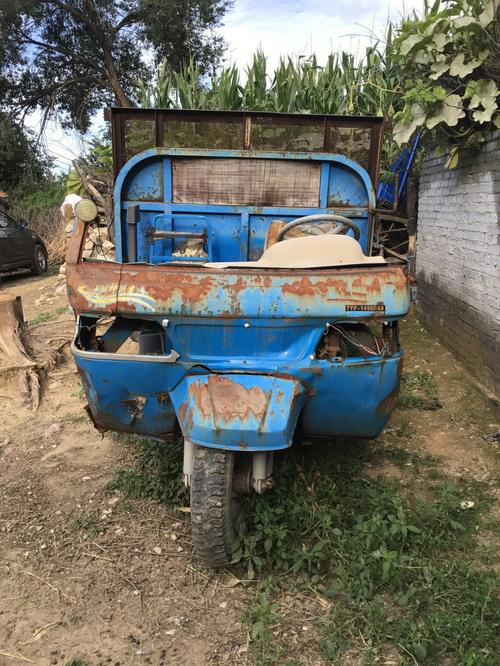empty: (73, 112, 435, 577)
